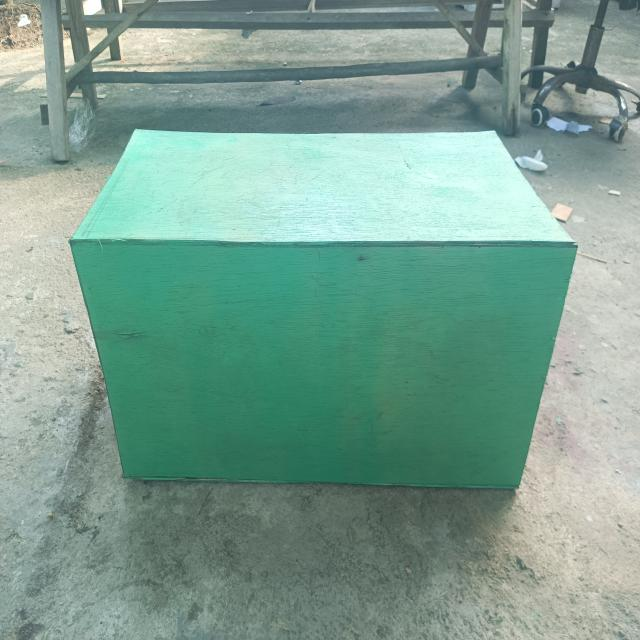green_box: (59, 117, 589, 530)
